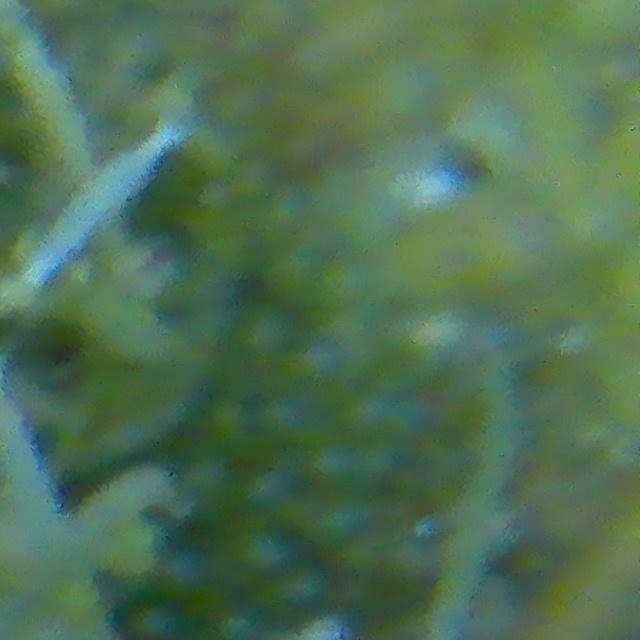SeaGrape: (233, 524, 289, 577), (279, 561, 330, 611), (245, 469, 293, 521), (256, 388, 302, 442), (129, 611, 193, 640), (308, 449, 346, 484)
